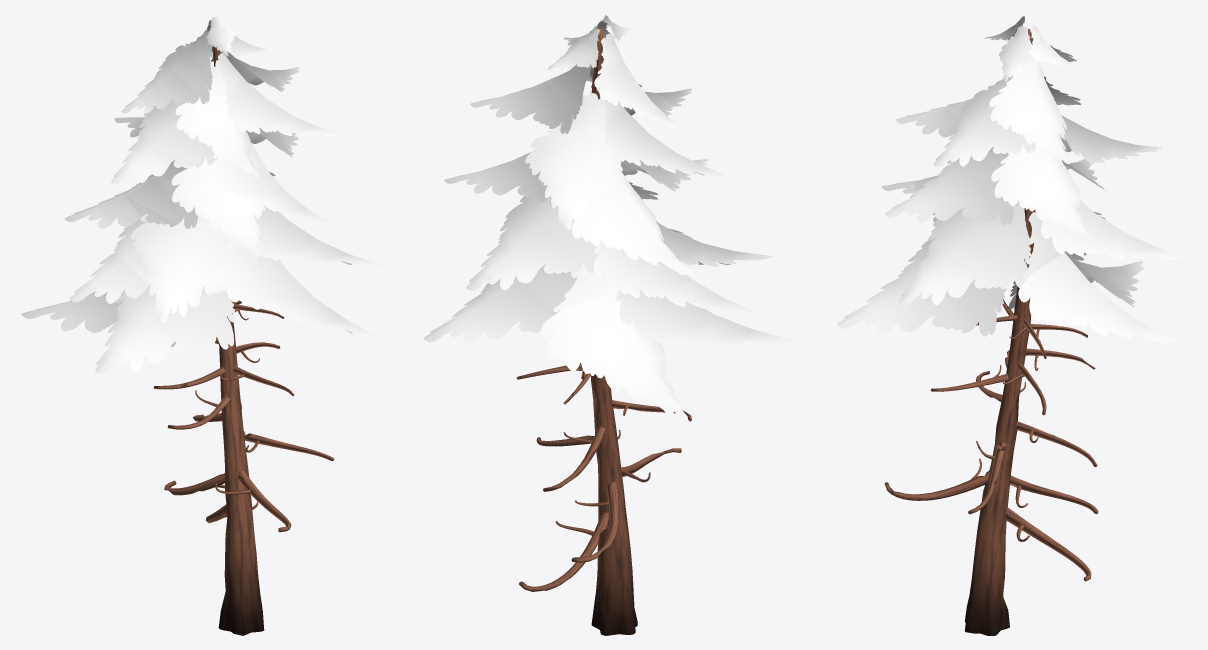
File: Pine_3.glb
The picture shows the model from 3 angles, left to right: view 1: azimuth 30°, elevation 25°; view 2: azimuth 150°, elevation 25°; view 3: azimuth 270°, elevation 25°; orthographic projection. The views are drawn at different scales.
Parts seen in each view (by area): view 1: Pine_3; view 2: Pine_3; view 3: Pine_3.
Boxes of the visible parts, x1,y1,x2,y2 form: Pine_3: (21, 16, 383, 635); Pine_3: (423, 15, 795, 635); Pine_3: (837, 16, 1187, 635).
Bounding box in the file's own units: 3.61 × 7.39 × 4.
2 materials, 2 textured.
